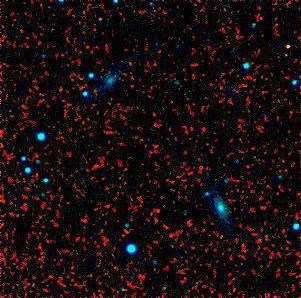star: (272, 32, 301, 62)
